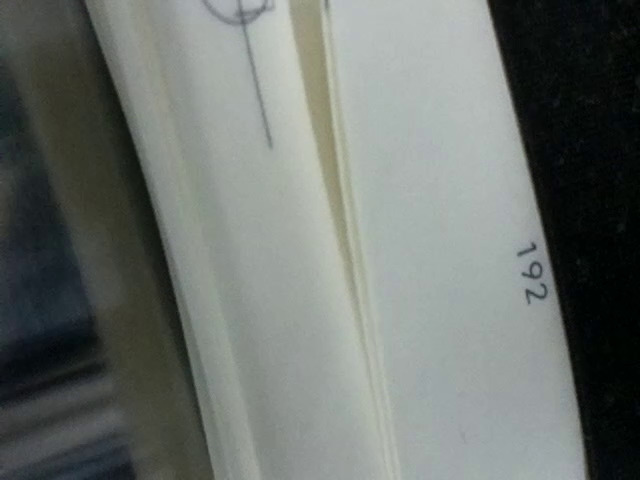not_sure: (200, 1, 280, 28)
